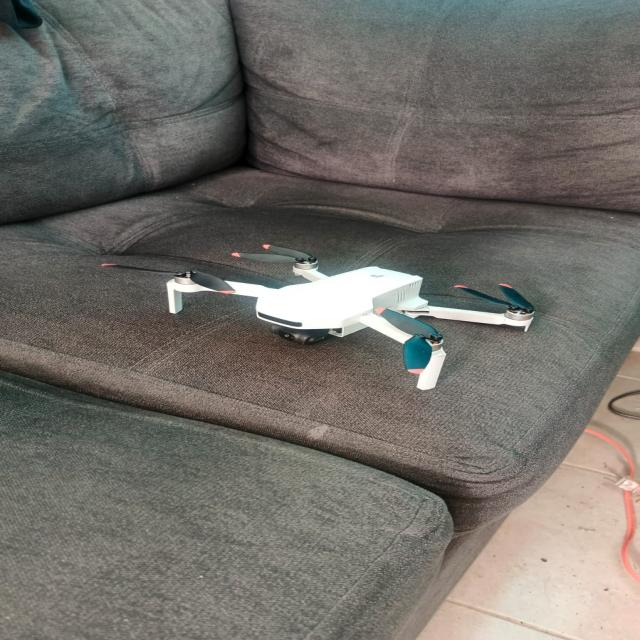dron: (112, 226, 556, 396)
